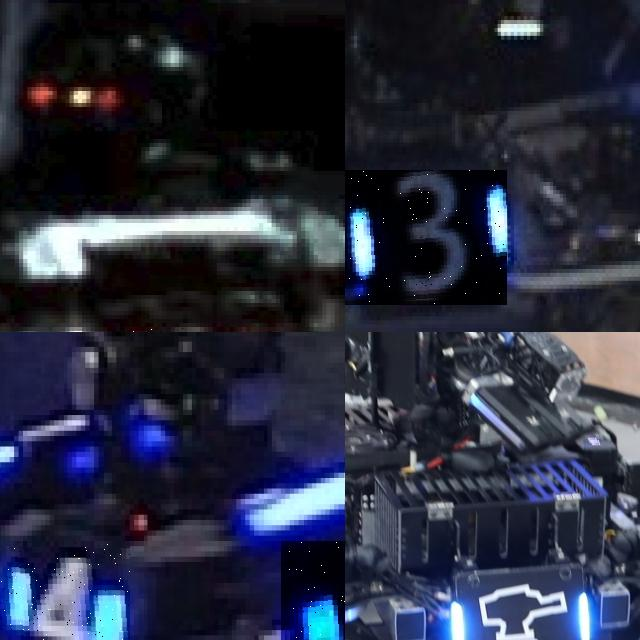B3: (345, 170, 507, 304)
B4: (0, 541, 129, 640), (280, 541, 345, 640)
Bs: (449, 580, 593, 640)
